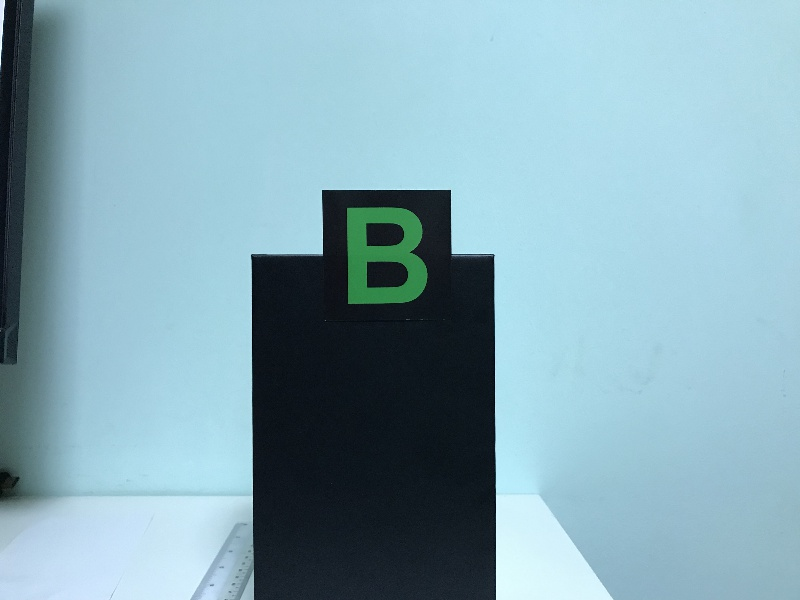B-12: (326, 192, 449, 319)
